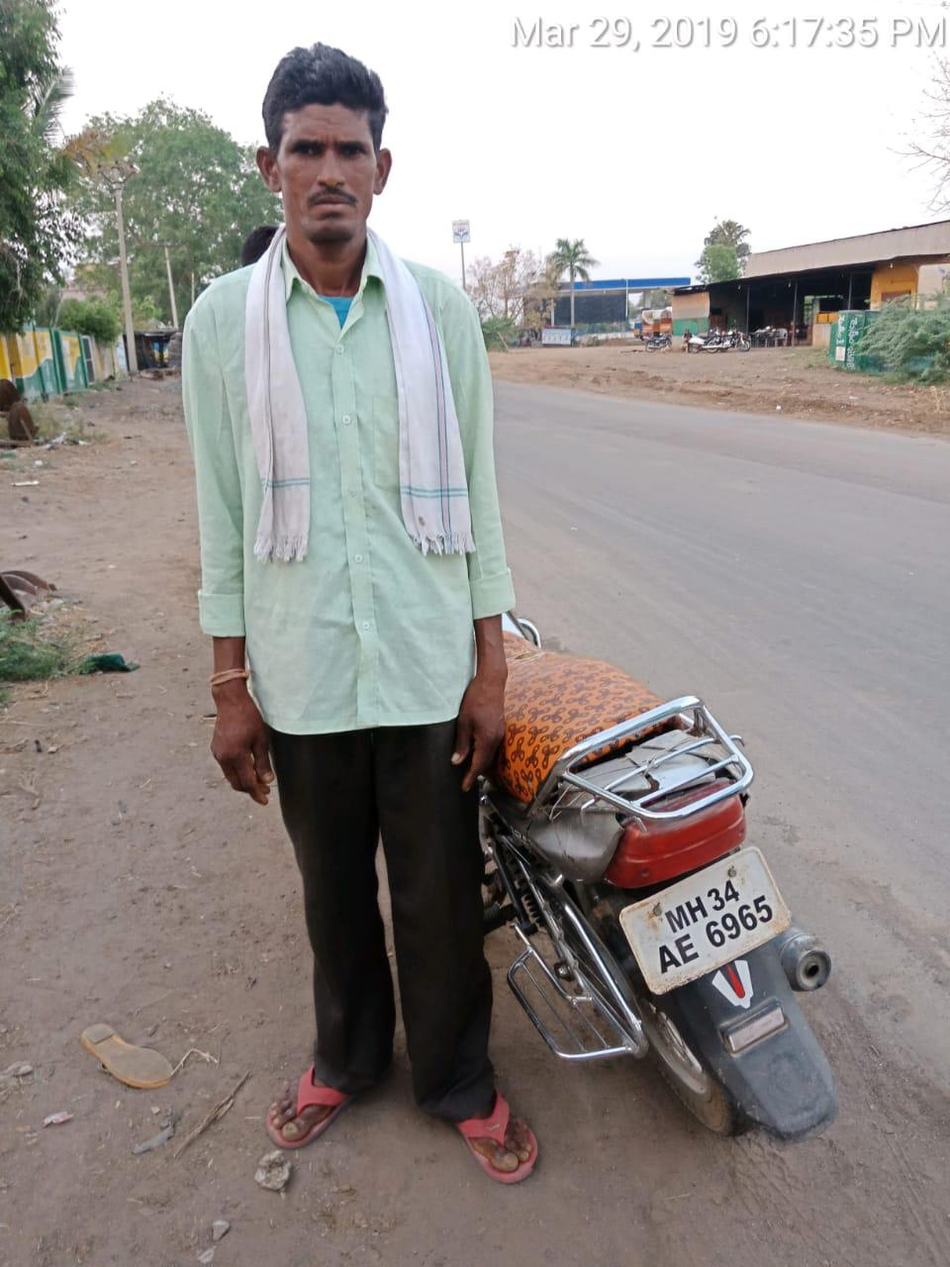plate: (604, 827, 812, 1005)
